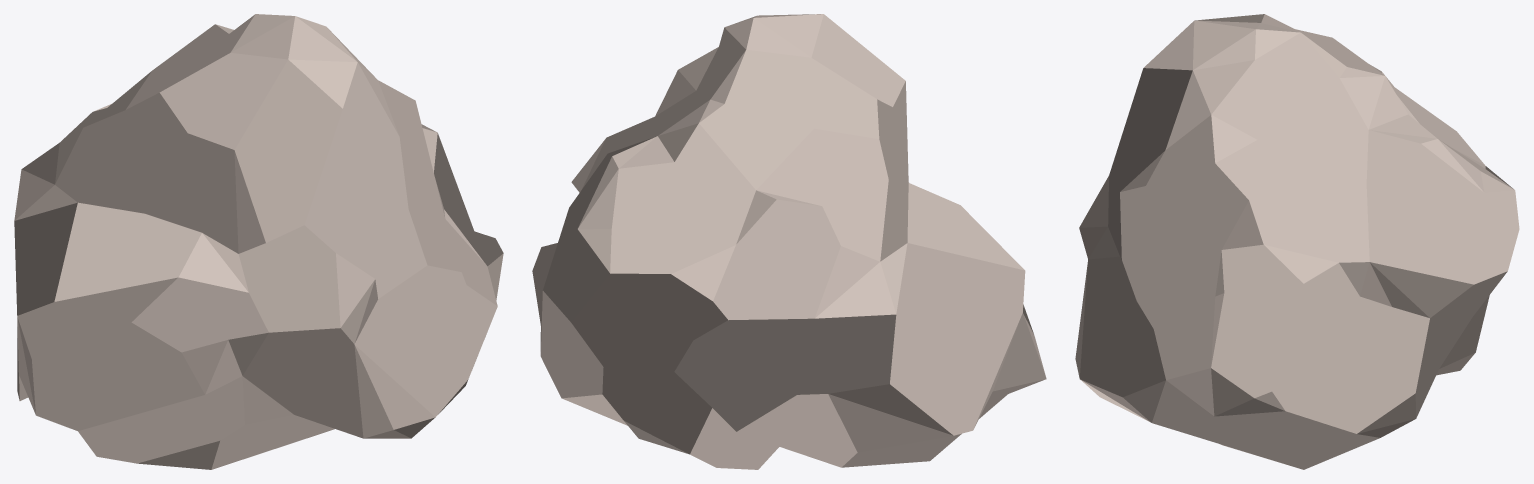
The model's file is rock2.fbx.
3 views of the same model, side by side, from view 1: azimuth 30°, elevation 25°; view 2: azimuth 150°, elevation 25°; view 3: azimuth 270°, elevation 25° (orthographic). The views are drawn at different scales.
Visible parts, largest first — view 1: rock_v3; view 2: rock_v3; view 3: rock_v3.
Boxes of the visible parts, left/top/right/bottom form: rock_v3: left=14, top=14, right=503, bottom=469; rock_v3: left=532, top=14, right=1046, bottom=469; rock_v3: left=1075, top=14, right=1519, bottom=469.
Size of the model in its own units: 3.08 by 2.42 by 2.54.
